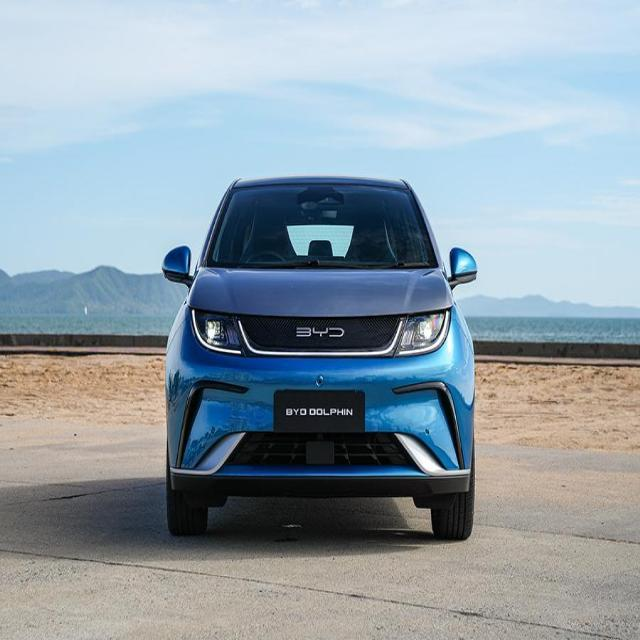Hatchback: (161, 176, 476, 539)
